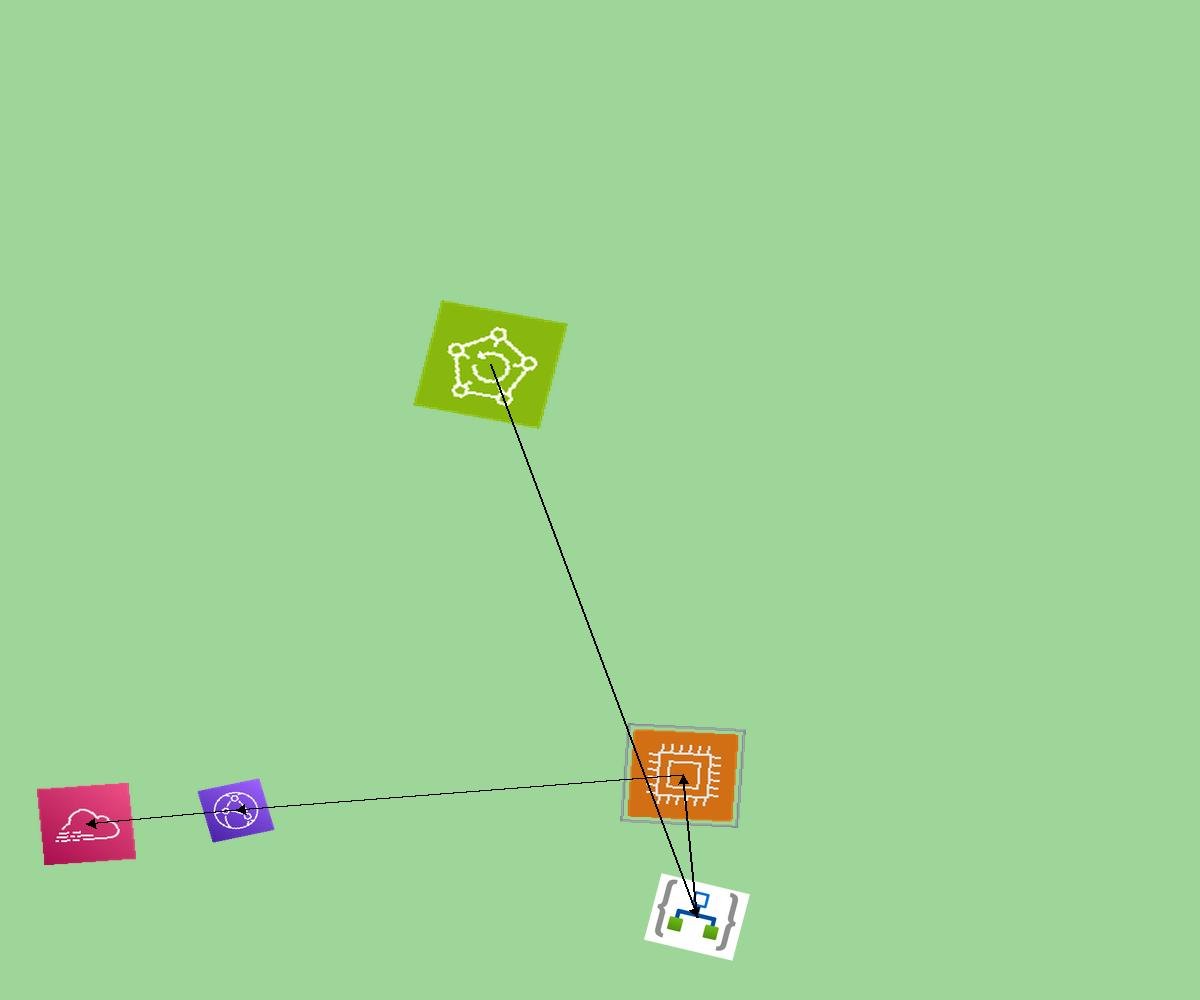AWS-Backup: (413, 300, 568, 429)
AWS-Category_Compute: (620, 723, 746, 828)
AWS-CloudFront: (197, 778, 275, 843)
AWS-CloudTrail: (36, 782, 137, 866)
Azure_integration-204-Logic-Apps: (644, 873, 750, 961)
